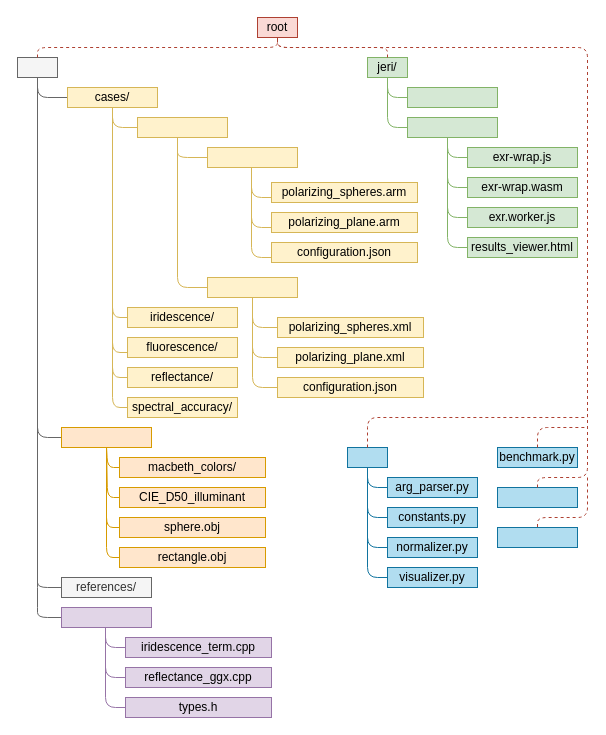
The diagram is 606 pixels wide and 735 high, and some of its shapes have lost their labels. The shapes that lost their labels are listed below. From the top down, each one's box as (x1, y1, x2, y2) in pixels, then its label:
(16, 56, 58, 78): data/
(406, 86, 498, 108): jeri.js
(136, 116, 228, 138): polarization/
(406, 116, 498, 138): page/
(206, 146, 298, 168): ART/
(206, 276, 298, 298): mitsuba2/
(60, 426, 152, 448): common/
(346, 446, 388, 468): src
(496, 486, 578, 508): visualize.py
(496, 526, 578, 548): settings.json
(60, 606, 152, 628): snippets/
